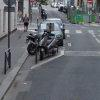Car: (36, 9, 68, 42)
